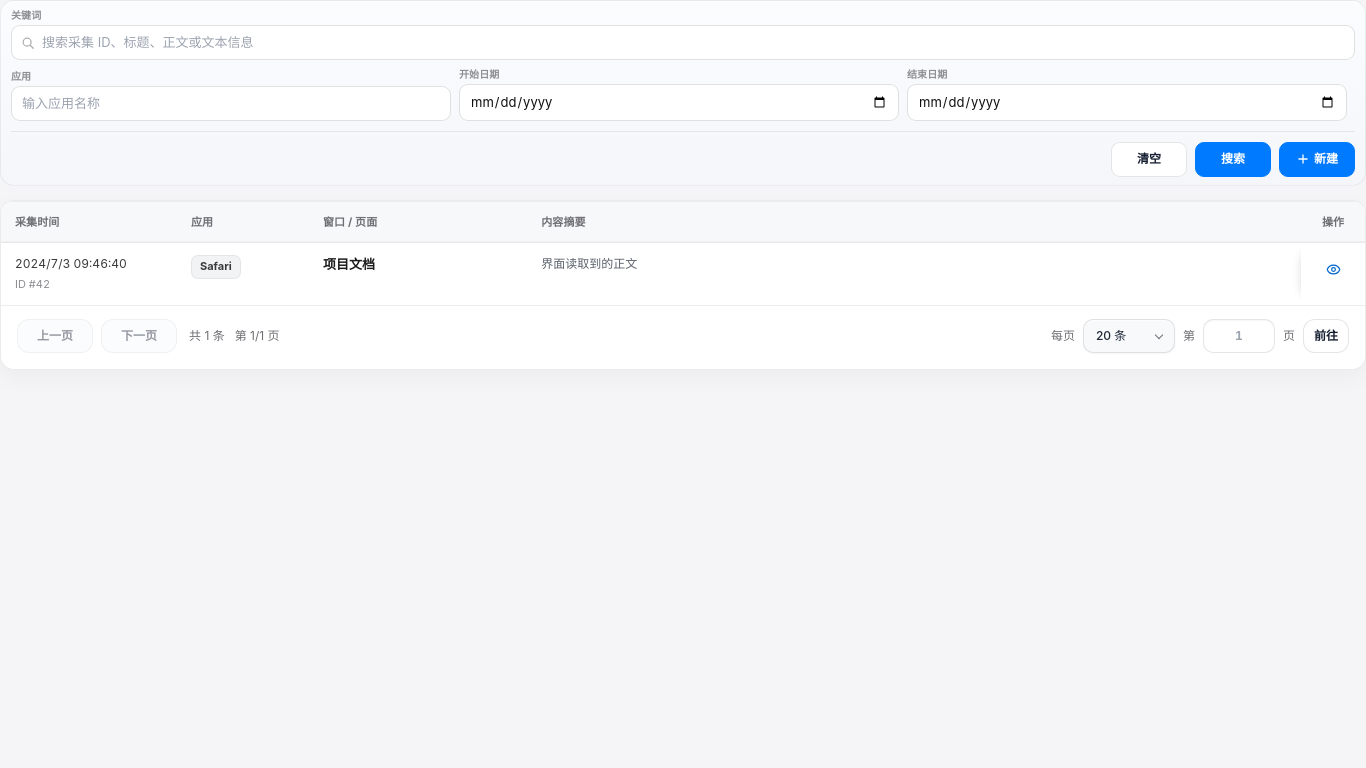
Test: 采集记录展示 › 调试模式将 browser_navigation 展示为“URL 变动”
Click the button named "查看采集记录 #42 详情": (1333, 269) [1319,255,1347,283]
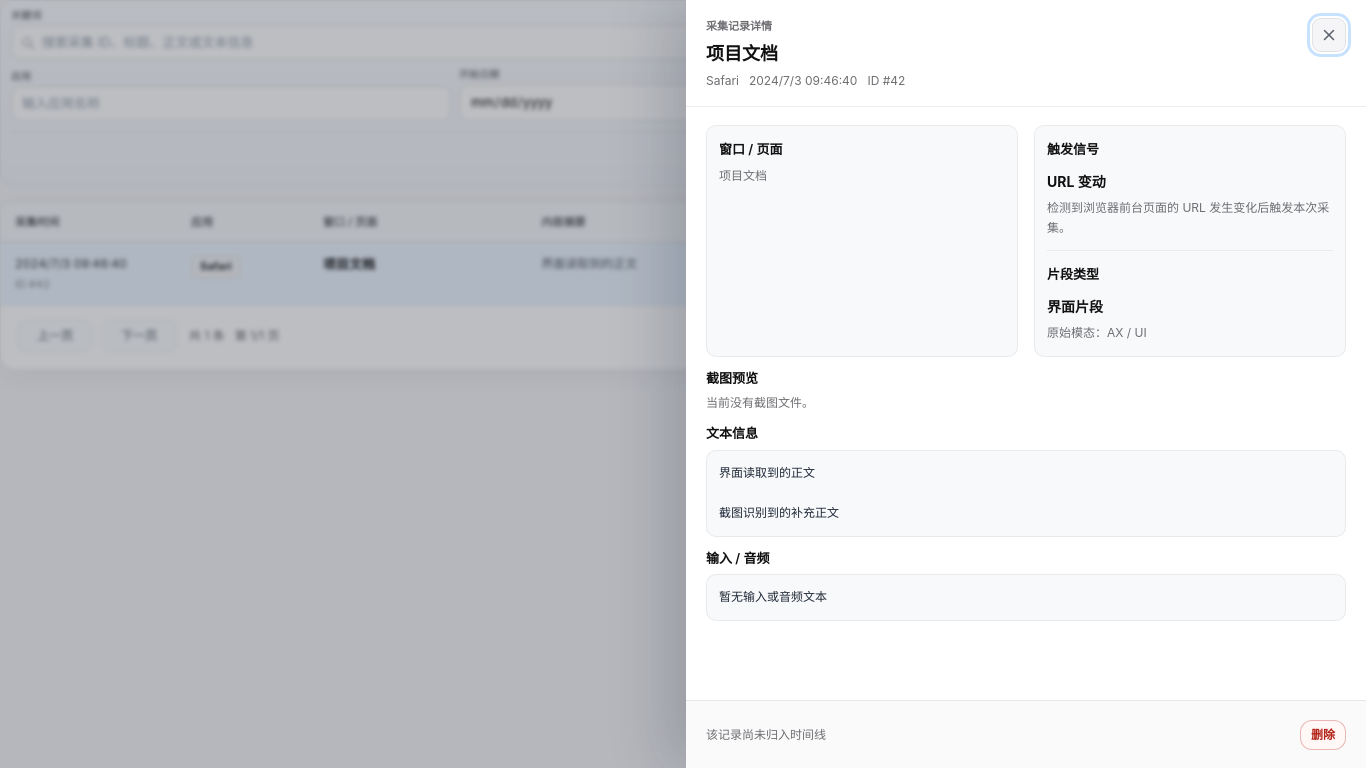
Now the text "触发信号" is shown, box [1047,141,1099,157]
Now the text "URL 变动" is shown, box [1047,173,1106,190]
Now the text "界面片段" is shown, box [1047,298,1103,316]
